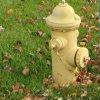a fire hydrant: (48, 0, 82, 88)
